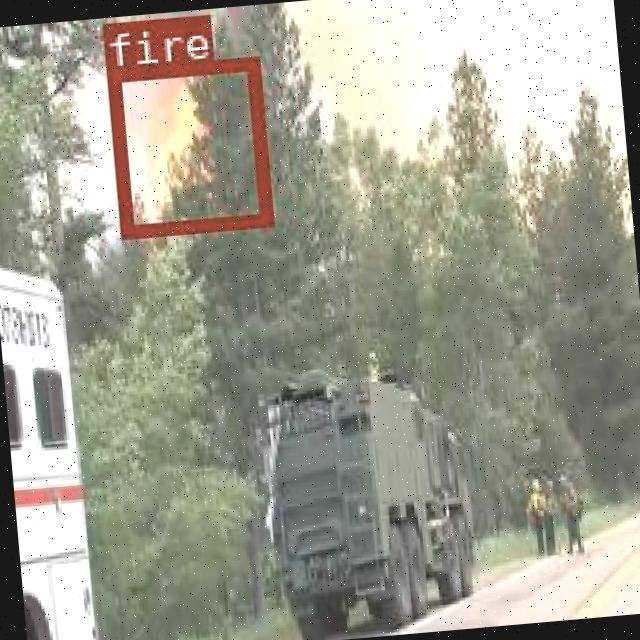fire: (106, 55, 270, 235)
